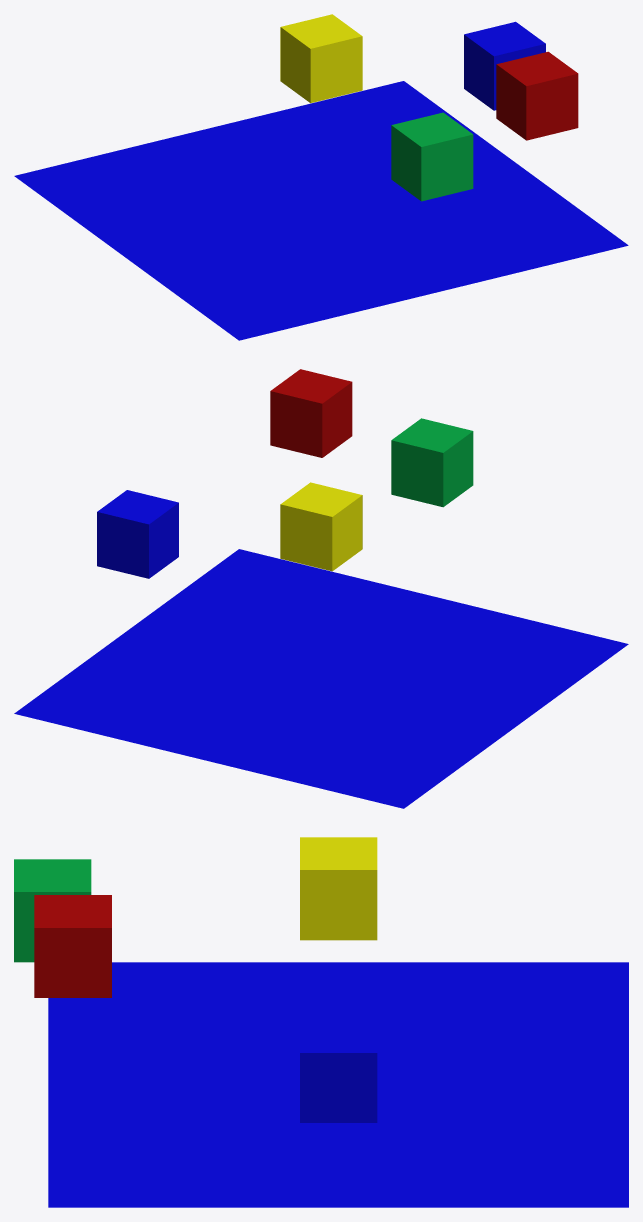
File: cubes2.fbx
The picture shows the model from 3 angles, top to bottom: view 1: azimuth 30°, elevation 25°; view 2: azimuth 150°, elevation 25°; view 3: azimuth 270°, elevation 25°; orthographic projection. The views are drawn at different scales.
Parts seen in each view (by area): view 1: pPlane1, pCube1, pCube2, pCube4, pCube3; view 2: pPlane1, pCube1, pCube2, pCube4, pCube3; view 3: pPlane1, pCube2, pCube3, pCube4, pCube1.
Part boxes in pixels (x1,y1,x2,y2): pPlane1: [14, 81, 628, 340]; pCube1: [391, 112, 473, 201]; pCube2: [280, 14, 362, 103]; pCube4: [496, 51, 578, 140]; pCube3: [464, 21, 545, 110]; pPlane1: [14, 549, 628, 808]; pCube1: [391, 418, 473, 507]; pCube2: [280, 482, 362, 571]; pCube4: [270, 369, 352, 457]; pCube3: [97, 490, 178, 578]; pPlane1: [48, 962, 628, 1207]; pCube2: [300, 837, 377, 940]; pCube3: [300, 1020, 377, 1122]; pCube4: [34, 895, 111, 997]; pCube1: [14, 859, 91, 962].
Size of the model in its own units: 31.11 by 13.94 by 31.78.
